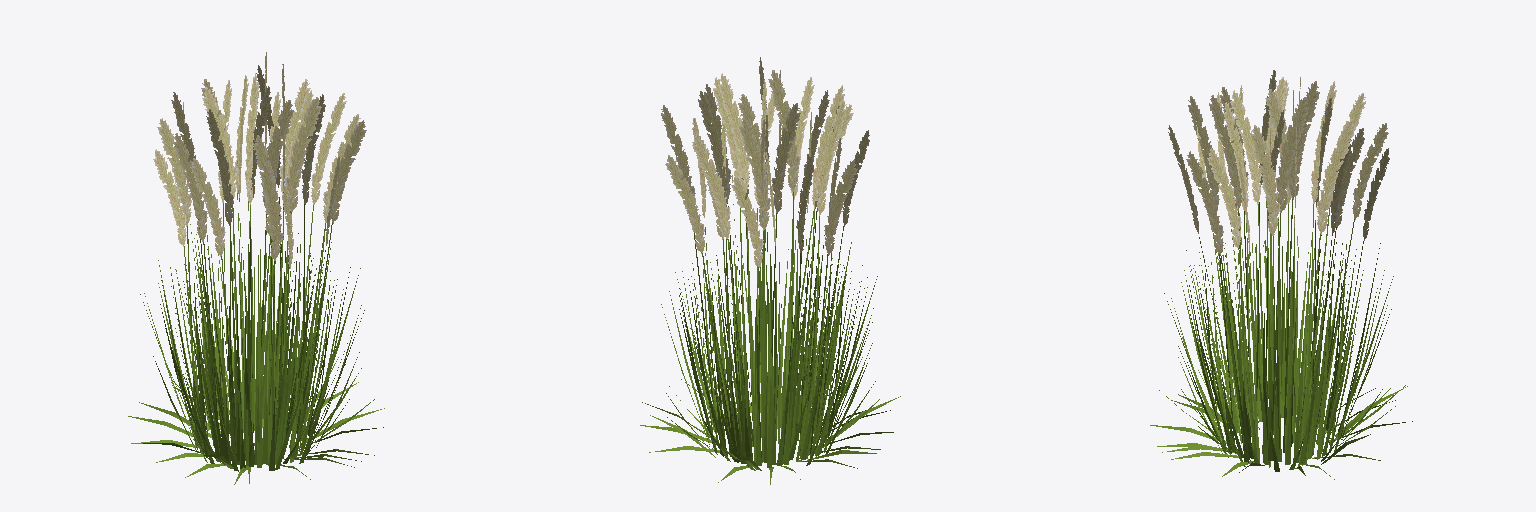
3 renders of one model, left to right at view 1: azimuth 30°, elevation 25°; view 2: azimuth 150°, elevation 25°; view 3: azimuth 270°, elevation 25°, orthographic.
Visible parts, largest first — view 1: Mesh281 CalamArundFlower32 calamagrostis_stem32 Model, Mesh7 CalamArundFlower4 calamagrostis_stem4 Model, Mesh33 CalamArundFlower17 calamagrostis_stem17 Model, Mesh23 CalamArundFlower12 calamagrostis_stem12 Model, Mesh29 CalamArundFlower15 calamagrostis_stem15 Model, Mesh27 CalamArundFlower14 calamagrostis_stem14 Model, Mesh273 CalamArundFlower28 calamagrostis_stem28 Model, Mesh41 CalamArundFlower21 calamagrostis_stem21 Model, Mesh17 CalamArundFlower9 calamagrostis_stem9 Model, Mesh15 CalamArundFlower8 calamagrostis_stem8 Model, Mesh265 CalamArundFlower24 calamagrostis_stem24 Model, Mesh31 CalamArundFlower16 calamagrostis_stem16 Model (+5 smaller); view 2: Mesh43 CalamArundFlower22 calamagrostis_stem22 Model, Mesh9 CalamArundFlower5 calamagrostis_stem5 Model, Mesh15 CalamArundFlower8 calamagrostis_stem8 Model, Mesh21 CalamArundFlower11 calamagrostis_stem11 Model, Mesh3 CalamArundFlower2 calamagrostis_stem2 Model, Mesh265 CalamArundFlower24 calamagrostis_stem24 Model, Mesh11 CalamArundFlower6 calamagrostis_stem6 Model, Mesh41 CalamArundFlower21 calamagrostis_stem21 Model, Mesh1 CalamArundFlower1 calamagrostis_stem1 Model, Mesh267 CalamArundFlower25 calamagrostis_stem25 Model, Mesh27 CalamArundFlower14 calamagrostis_stem14 Model, Mesh35 CalamArundFlower18 calamagrostis_stem18 Model (+4 smaller); view 3: Mesh25 CalamArundFlower13 calamagrostis_stem13 Model, Mesh277 CalamArundFlower30 calamagrostis_stem30 Model, Mesh285 CalamArundFlower34 calamagrostis_stem34 Model, Mesh31 CalamArundFlower16 calamagrostis_stem16 Model, Mesh39 CalamArundFlower20 calamagrostis_stem20 Model, Mesh273 CalamArundFlower28 calamagrostis_stem28 Model, Mesh279 CalamArundFlower31 calamagrostis_stem31 Model, Mesh1 CalamArundFlower1 calamagrostis_stem1 Model, Mesh21 CalamArundFlower11 calamagrostis_stem11 Model, Mesh35 CalamArundFlower18 calamagrostis_stem18 Model, Mesh281 CalamArundFlower32 calamagrostis_stem32 Model, Mesh9 CalamArundFlower5 calamagrostis_stem5 Model (+4 smaller).
Part boxes in pixels (left/top/right/bottom): Mesh281 CalamArundFlower32 calamagrostis_stem32 Model: left=285, top=97, right=321, bottom=211; Mesh7 CalamArundFlower4 calamagrostis_stem4 Model: left=190, top=158, right=225, bottom=256; Mesh33 CalamArundFlower17 calamagrostis_stem17 Model: left=173, top=133, right=207, bottom=241; Mesh23 CalamArundFlower12 calamagrostis_stem12 Model: left=157, top=118, right=191, bottom=226; Mesh29 CalamArundFlower15 calamagrostis_stem15 Model: left=260, top=164, right=283, bottom=260; Mesh27 CalamArundFlower14 calamagrostis_stem14 Model: left=311, top=93, right=346, bottom=204; Mesh273 CalamArundFlower28 calamagrostis_stem28 Model: left=330, top=120, right=366, bottom=223; Mesh41 CalamArundFlower21 calamagrostis_stem21 Model: left=153, top=149, right=186, bottom=246; Mesh17 CalamArundFlower9 calamagrostis_stem9 Model: left=206, top=109, right=233, bottom=225; Mesh15 CalamArundFlower8 calamagrostis_stem8 Model: left=202, top=87, right=236, bottom=200; Mesh265 CalamArundFlower24 calamagrostis_stem24 Model: left=245, top=73, right=258, bottom=204; Mesh31 CalamArundFlower16 calamagrostis_stem16 Model: left=261, top=100, right=293, bottom=207; Mesh43 CalamArundFlower22 calamagrostis_stem22 Model: left=739, top=118, right=770, bottom=230; Mesh9 CalamArundFlower5 calamagrostis_stem5 Model: left=692, top=135, right=730, bottom=238; Mesh15 CalamArundFlower8 calamagrostis_stem8 Model: left=772, top=103, right=800, bottom=213; Mesh21 CalamArundFlower11 calamagrostis_stem11 Model: left=718, top=73, right=749, bottom=191; Mesh3 CalamArundFlower2 calamagrostis_stem2 Model: left=665, top=155, right=704, bottom=253; Mesh265 CalamArundFlower24 calamagrostis_stem24 Model: left=768, top=70, right=800, bottom=191; Mesh11 CalamArundFlower6 calamagrostis_stem6 Model: left=816, top=101, right=846, bottom=215; Mesh41 CalamArundFlower21 calamagrostis_stem21 Model: left=824, top=160, right=857, bottom=254; Mesh1 CalamArundFlower1 calamagrostis_stem1 Model: left=731, top=176, right=763, bottom=267; Mesh267 CalamArundFlower25 calamagrostis_stem25 Model: left=698, top=91, right=728, bottom=206; Mesh27 CalamArundFlower14 calamagrostis_stem14 Model: left=661, top=105, right=695, bottom=195; Mesh35 CalamArundFlower18 calamagrostis_stem18 Model: left=812, top=85, right=844, bottom=200; Mesh25 CalamArundFlower13 calamagrostis_stem13 Model: left=1316, top=119, right=1355, bottom=234; Mesh277 CalamArundFlower30 calamagrostis_stem30 Model: left=1276, top=97, right=1308, bottom=212; Mesh285 CalamArundFlower34 calamagrostis_stem34 Model: left=1250, top=125, right=1280, bottom=235; Mesh31 CalamArundFlower16 calamagrostis_stem16 Model: left=1230, top=90, right=1261, bottom=204; Mesh39 CalamArundFlower20 calamagrostis_stem20 Model: left=1186, top=151, right=1223, bottom=254; Mesh273 CalamArundFlower28 calamagrostis_stem28 Model: left=1207, top=148, right=1241, bottom=247; Mesh279 CalamArundFlower31 calamagrostis_stem31 Model: left=1209, top=95, right=1241, bottom=210; Mesh1 CalamArundFlower1 calamagrostis_stem1 Model: left=1352, top=123, right=1388, bottom=219; Mesh21 CalamArundFlower11 calamagrostis_stem11 Model: left=1288, top=81, right=1319, bottom=199; Mesh35 CalamArundFlower18 calamagrostis_stem18 Model: left=1188, top=96, right=1219, bottom=209; Mesh281 CalamArundFlower32 calamagrostis_stem32 Model: left=1223, top=102, right=1248, bottom=210; Mesh9 CalamArundFlower5 calamagrostis_stem5 Model: left=1335, top=128, right=1364, bottom=227.
Size of the model in its own units: 31.42 by 49.71 by 31.34.
2 materials, 1 textured.